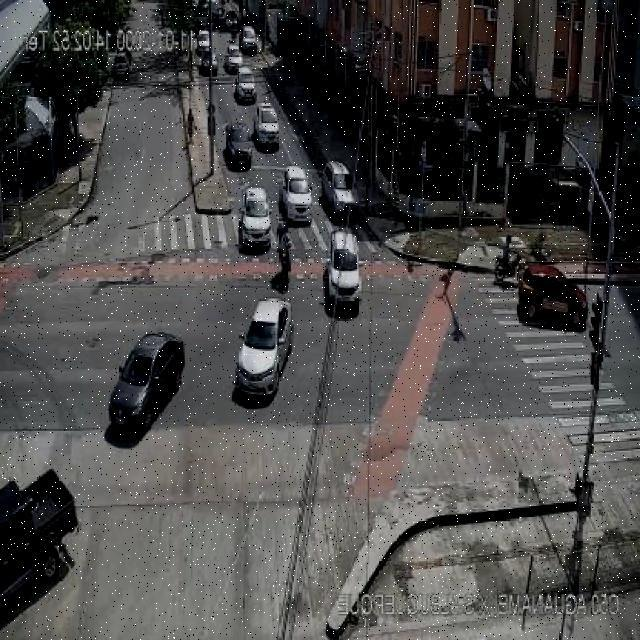Car: (107, 332, 186, 434), (234, 298, 294, 400), (517, 264, 589, 330), (324, 230, 362, 312), (238, 187, 273, 250), (322, 160, 357, 220), (280, 165, 313, 222), (224, 122, 254, 167), (254, 100, 280, 146), (235, 68, 256, 102), (224, 43, 243, 72), (240, 26, 258, 54), (112, 54, 130, 82), (199, 51, 219, 75), (196, 30, 212, 54), (224, 10, 238, 30)
